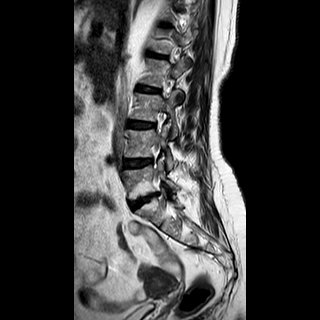RFS0: (149, 106, 170, 139)
